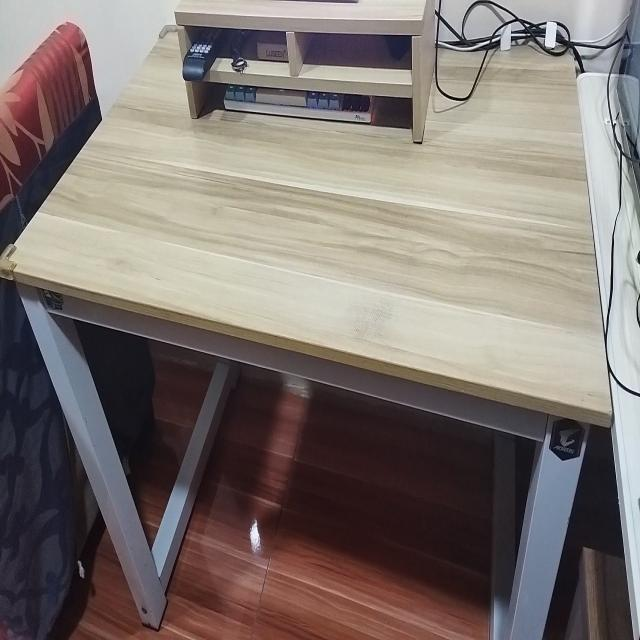table: (0, 16, 607, 640)
